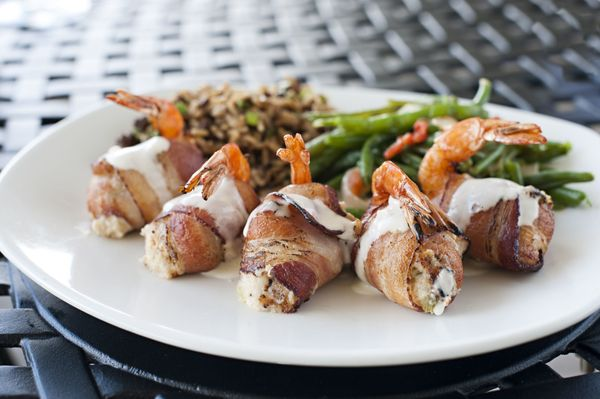soup: (353, 160, 467, 316), (445, 178, 556, 273)
